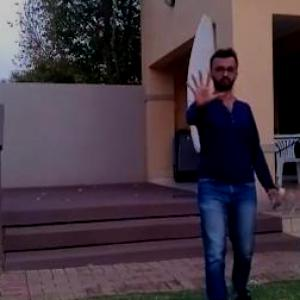follow_hand: (182, 63, 226, 111)
